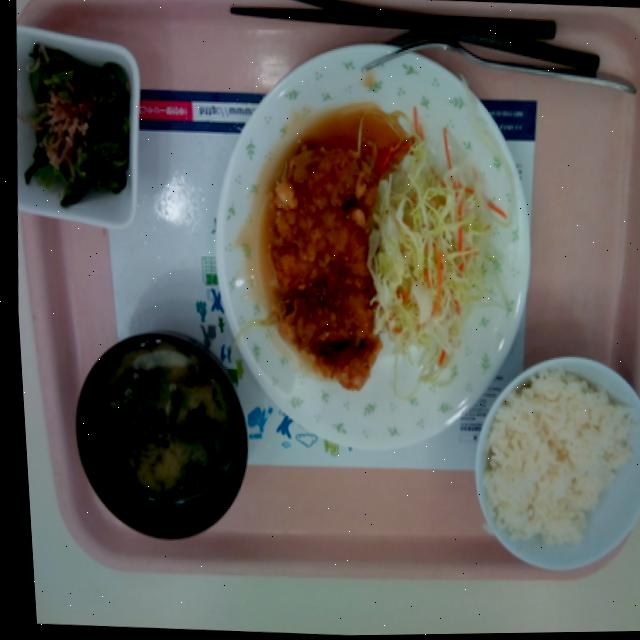汤锅炖物: (55, 31, 240, 277)
米饭主食: (52, 564, 229, 634)
